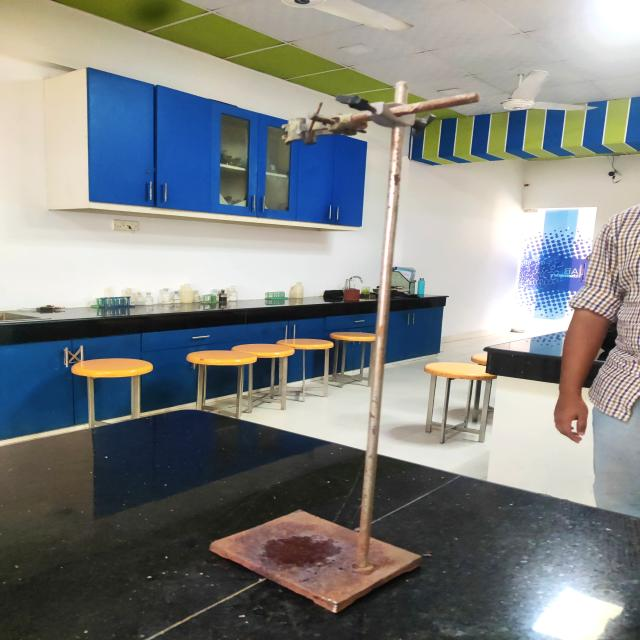Burette_Stands: (188, 62, 484, 636)
